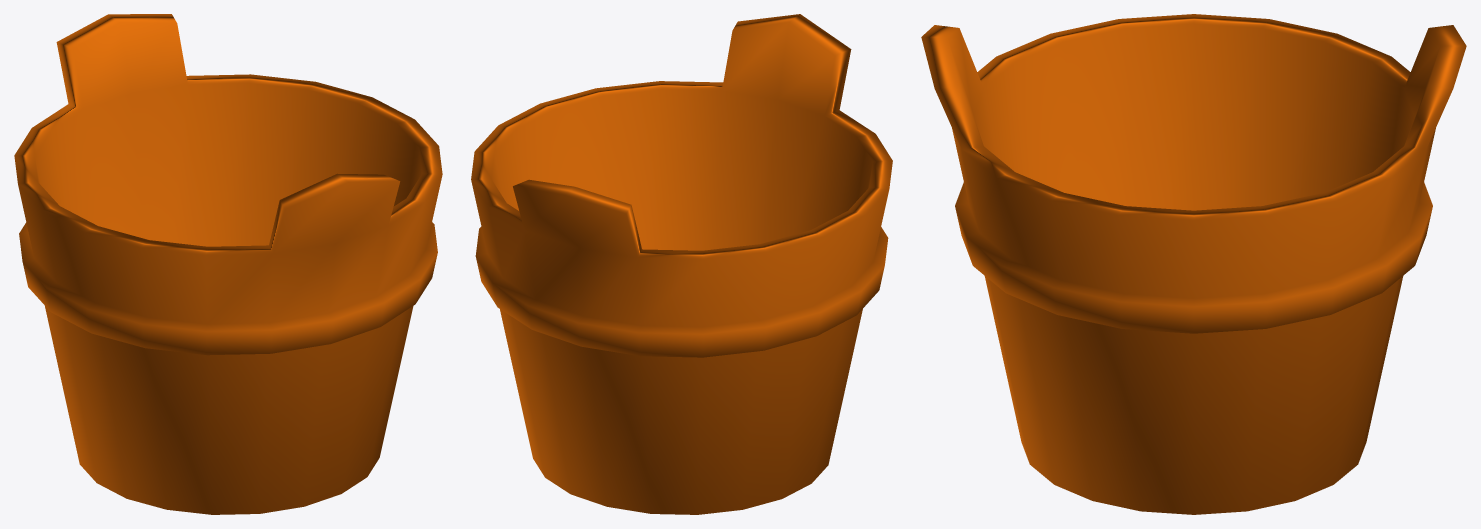
Rendered from Wood_Bucket.fbx.
3 views of the same model, side by side, from view 1: azimuth 30°, elevation 25°; view 2: azimuth 150°, elevation 25°; view 3: azimuth 270°, elevation 25° (orthographic). The views are drawn at different scales.
Parts seen in each view (by area): view 1: Wood_Bucket; view 2: Wood_Bucket; view 3: Wood_Bucket.
Part boxes in pixels (bbox=[...]): Wood_Bucket: bbox=[14, 14, 442, 514]; Wood_Bucket: bbox=[471, 14, 892, 514]; Wood_Bucket: bbox=[921, 14, 1466, 514].
Bounding box in the file's own units: 49.34 × 45.11 × 55.06.
